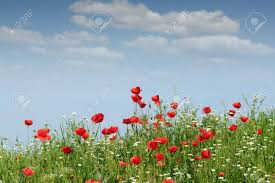flower: (6, 89, 266, 183)
sky: (4, 3, 273, 98)
